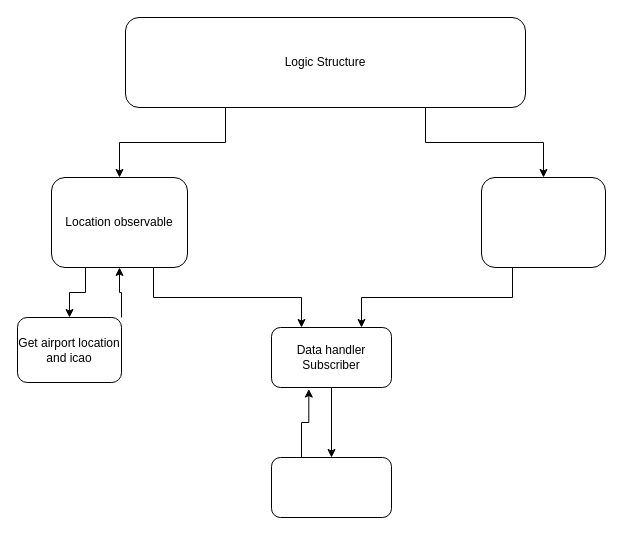
Some shapes in this 623 by 535 pixel diagram are drawn without their labels. The box of each missing label's shape, as (x1, y1, x2, y2) in pixels:
UI Composables: (270, 456, 392, 518)
Weather Observable: (480, 176, 606, 268)
